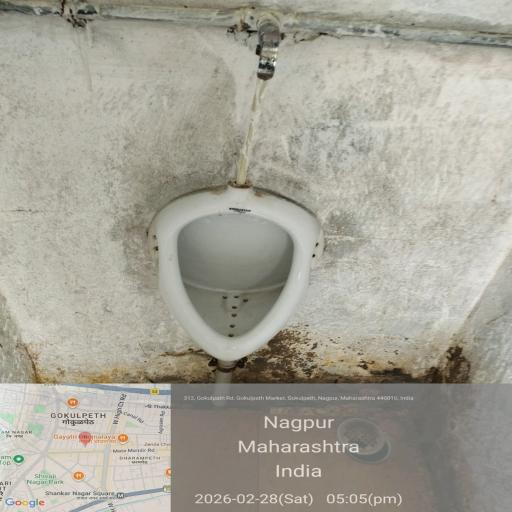partial_dirty_floor: (0, 126, 150, 363), (79, 116, 451, 202), (326, 209, 508, 338), (35, 335, 512, 381)
partial_dirty_urinal: (152, 189, 314, 357)
